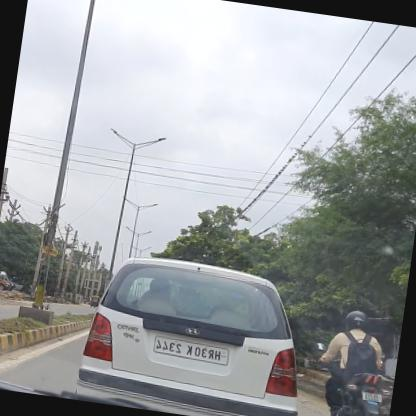car: (69, 246, 316, 415), (0, 274, 13, 292)
motorcycle: (303, 304, 397, 415)
